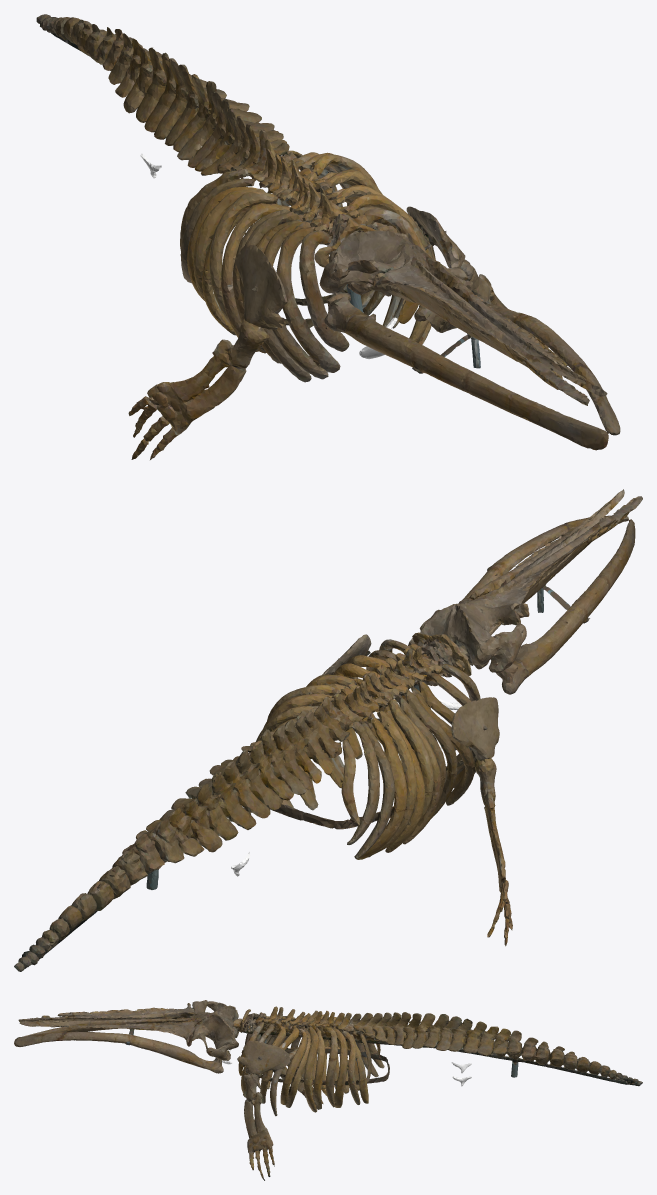
The model's file is cetotherium.glb.
3 views of the same model, one above another, from view 1: azimuth 30°, elevation 25°; view 2: azimuth 150°, elevation 25°; view 3: azimuth 270°, elevation 25° (orthographic). The views are drawn at different scales.
Bounding box in the file's own units: 96934 × 64509 × 275207.
Materials: 2 (1 with a texture image).
